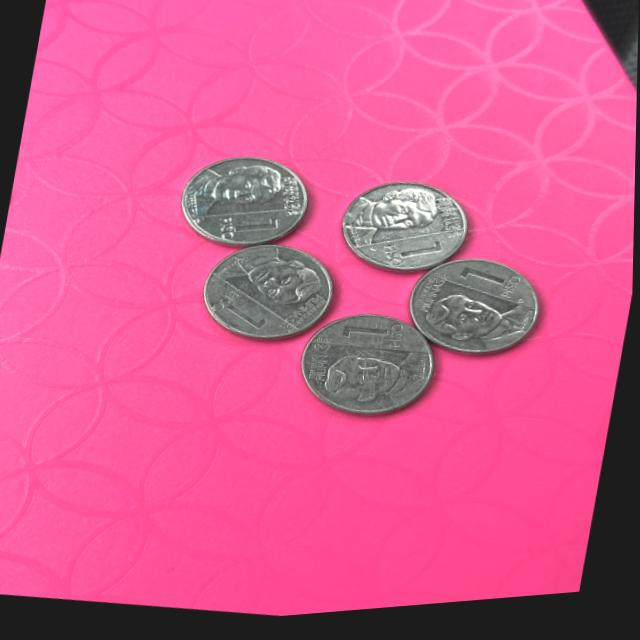1_New_Front: (203, 280, 286, 351), (455, 262, 525, 312), (337, 317, 413, 362), (378, 236, 450, 283), (217, 211, 284, 251)
